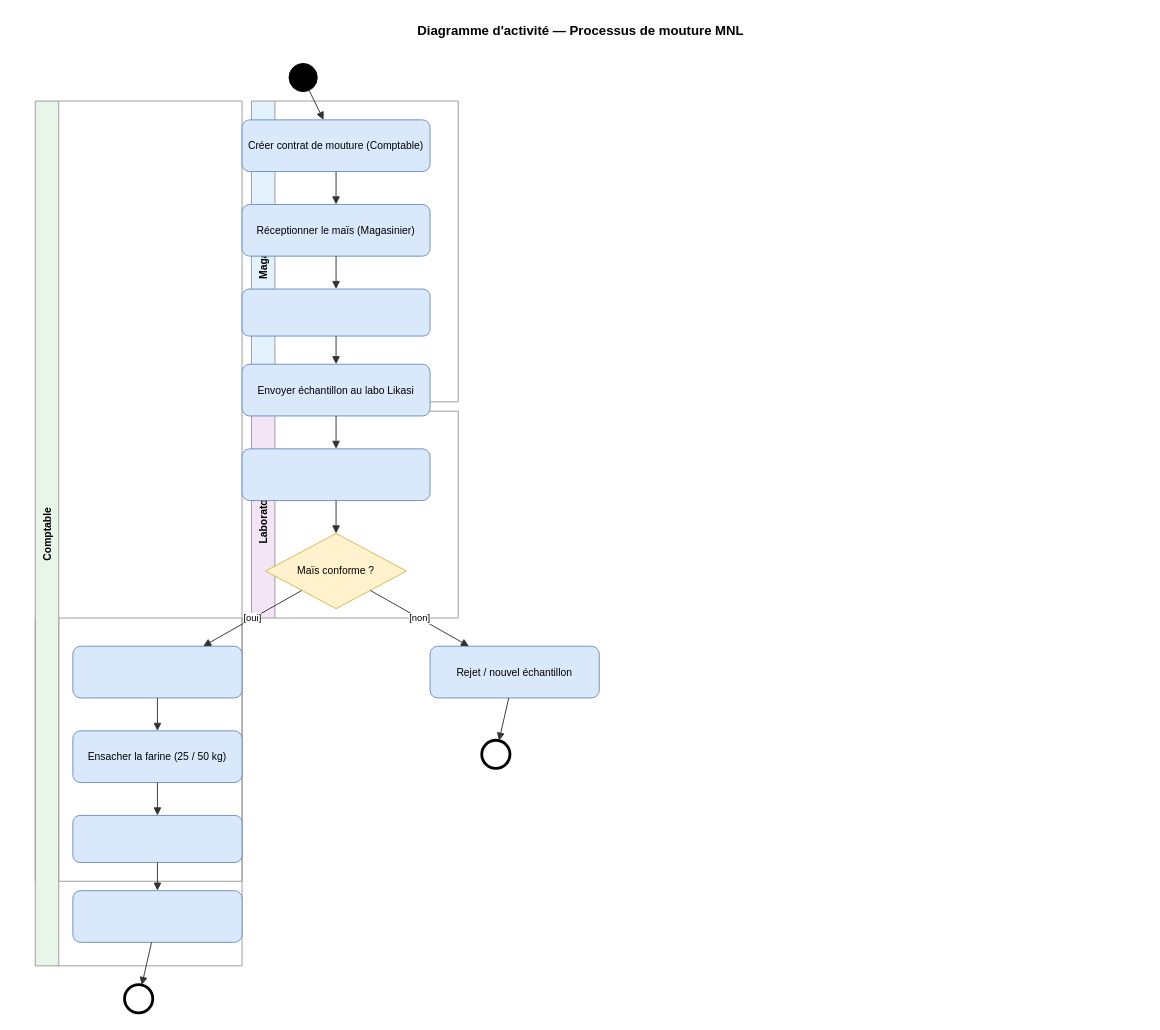
This 1160x1030 diagram has some shape labels left out. The box of each missing label's shape, as (x1, y1, x2, y2) in pixels:
Analyser l'échantillon (Laborantin): (241, 448, 430, 501)
Générer bon de retrait (Comptable): (72, 890, 242, 942)
Lancer la mouture (Meunier): (72, 645, 242, 698)
Mettre à jour Stock farine: (72, 815, 242, 862)
Mettre à jour Stock MP: (241, 288, 430, 336)
